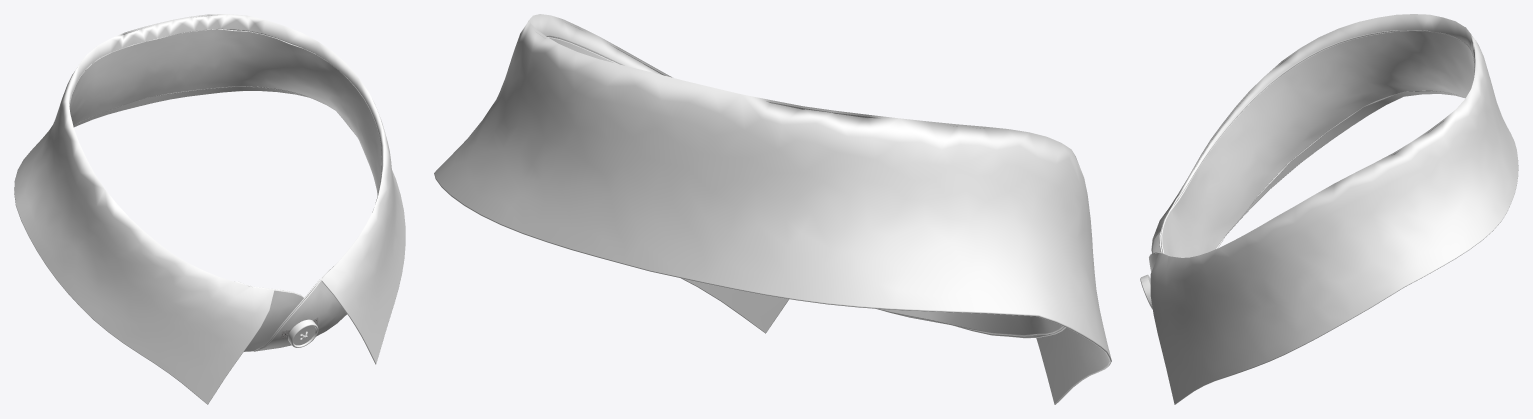
Rendered from Spread_Collar.glb.
3 renders of one model, left to right at view 1: azimuth 30°, elevation 25°; view 2: azimuth 150°, elevation 25°; view 3: azimuth 270°, elevation 25°, orthographic. The views are drawn at different scales.
Parts seen in each view (by area): view 1: Pattern_4935173_Node, inner_Node, Pattern_4935171_Node, button.001; view 2: Pattern_4935173_Node, inner_Node; view 3: Pattern_4935173_Node, inner_Node, Pattern_4935171_Node.
Part boxes in pixels (left/top/right/bottom): Pattern_4935173_Node: left=14, top=14, right=405, bottom=404; inner_Node: left=69, top=29, right=381, bottom=349; Pattern_4935171_Node: left=69, top=28, right=381, bottom=351; button.001: left=288, top=319, right=318, bottom=347; Pattern_4935173_Node: left=434, top=14, right=1111, bottom=404; inner_Node: left=548, top=37, right=1063, bottom=335; Pattern_4935173_Node: left=1150, top=14, right=1518, bottom=404; inner_Node: left=1152, top=30, right=1474, bottom=257; Pattern_4935171_Node: left=1149, top=30, right=1468, bottom=272.
Bounding box in the file's own units: 16.19 × 11.57 × 13.28.
Materials: 6 (1 with a texture image).
